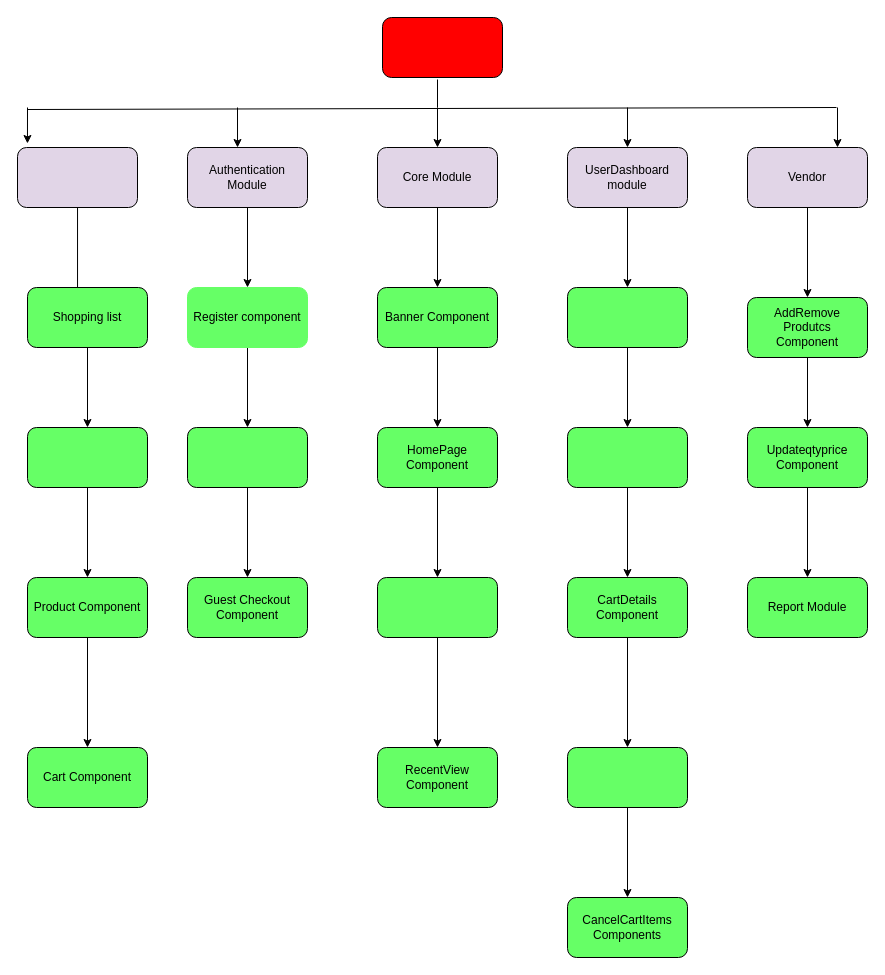
Image size: 885x975. Some labels were removed from this diagram. The shapes that lost their labels are listed below. From the top down, each one's centre as x and y in pixels, then its label:
At pixel 442 47: "E-Bazzar".
At pixel 77 177: "Shopping Module".
At pixel 627 317: "MyAccount Component".
At pixel 87 457: "Search Component".
At pixel 247 457: "Login Component".
At pixel 627 457: "Shippinglist Component".
At pixel 437 607: "SideNav Component".
At pixel 627 777: "OrderHistory Component".
